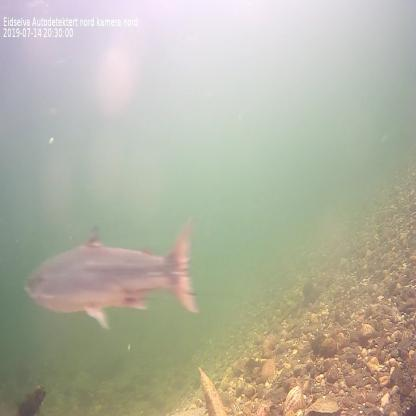salmon: (20, 218, 205, 331)
